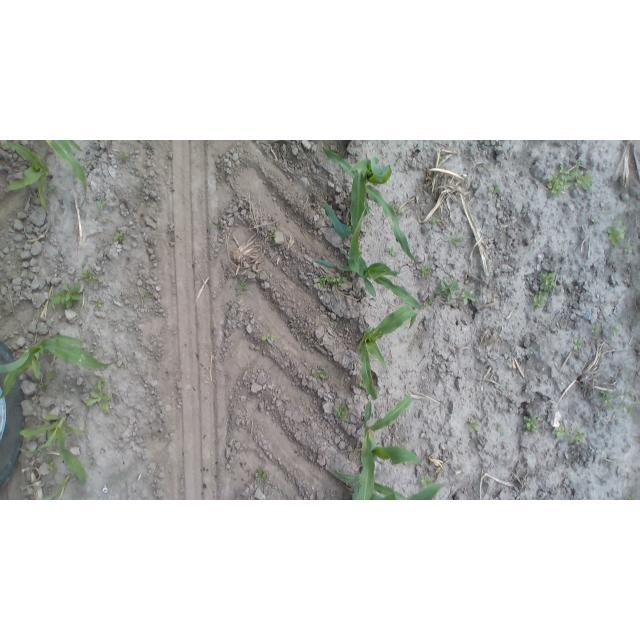Maize: (324, 145, 420, 266), (316, 210, 423, 311), (1, 333, 120, 398), (352, 393, 423, 500), (360, 304, 417, 403), (17, 411, 87, 486), (1, 140, 54, 212), (334, 468, 447, 500), (46, 140, 88, 208), (39, 475, 74, 500)
Weeds: (85, 375, 113, 415), (559, 162, 595, 192), (51, 282, 81, 309), (606, 218, 627, 247), (437, 280, 460, 303), (546, 172, 563, 196), (447, 233, 469, 248), (540, 271, 557, 290), (325, 273, 347, 287), (523, 415, 540, 433), (566, 428, 586, 443), (462, 285, 477, 305), (533, 291, 548, 310), (335, 403, 350, 421), (601, 391, 614, 410), (467, 417, 482, 433), (391, 199, 406, 215), (311, 365, 328, 379), (81, 270, 99, 283), (419, 474, 433, 490), (255, 469, 268, 483), (236, 282, 249, 294), (422, 266, 432, 279), (114, 232, 125, 243), (555, 427, 566, 438), (573, 338, 583, 350), (95, 200, 107, 210), (424, 294, 434, 306), (261, 334, 276, 342), (47, 463, 58, 473), (384, 248, 396, 257), (48, 183, 58, 193), (625, 244, 634, 255), (48, 370, 57, 380), (120, 153, 130, 162), (491, 186, 502, 194), (96, 299, 104, 309), (38, 382, 50, 388), (610, 327, 618, 336), (592, 324, 601, 332), (317, 278, 325, 287), (268, 230, 277, 238), (499, 427, 506, 437), (521, 497, 543, 500), (47, 430, 54, 439), (629, 494, 638, 500), (81, 258, 87, 267), (432, 219, 441, 225), (498, 386, 507, 392), (346, 223, 353, 230), (214, 222, 222, 228), (627, 407, 634, 413), (141, 291, 146, 299), (88, 462, 94, 468), (628, 392, 633, 399), (103, 218, 109, 223), (439, 156, 445, 161), (622, 403, 627, 408), (46, 458, 52, 462), (141, 202, 146, 206), (636, 436, 640, 440), (153, 436, 156, 439)
